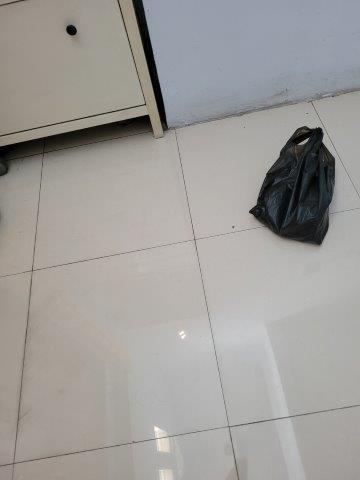plastik: (250, 127, 337, 247)
